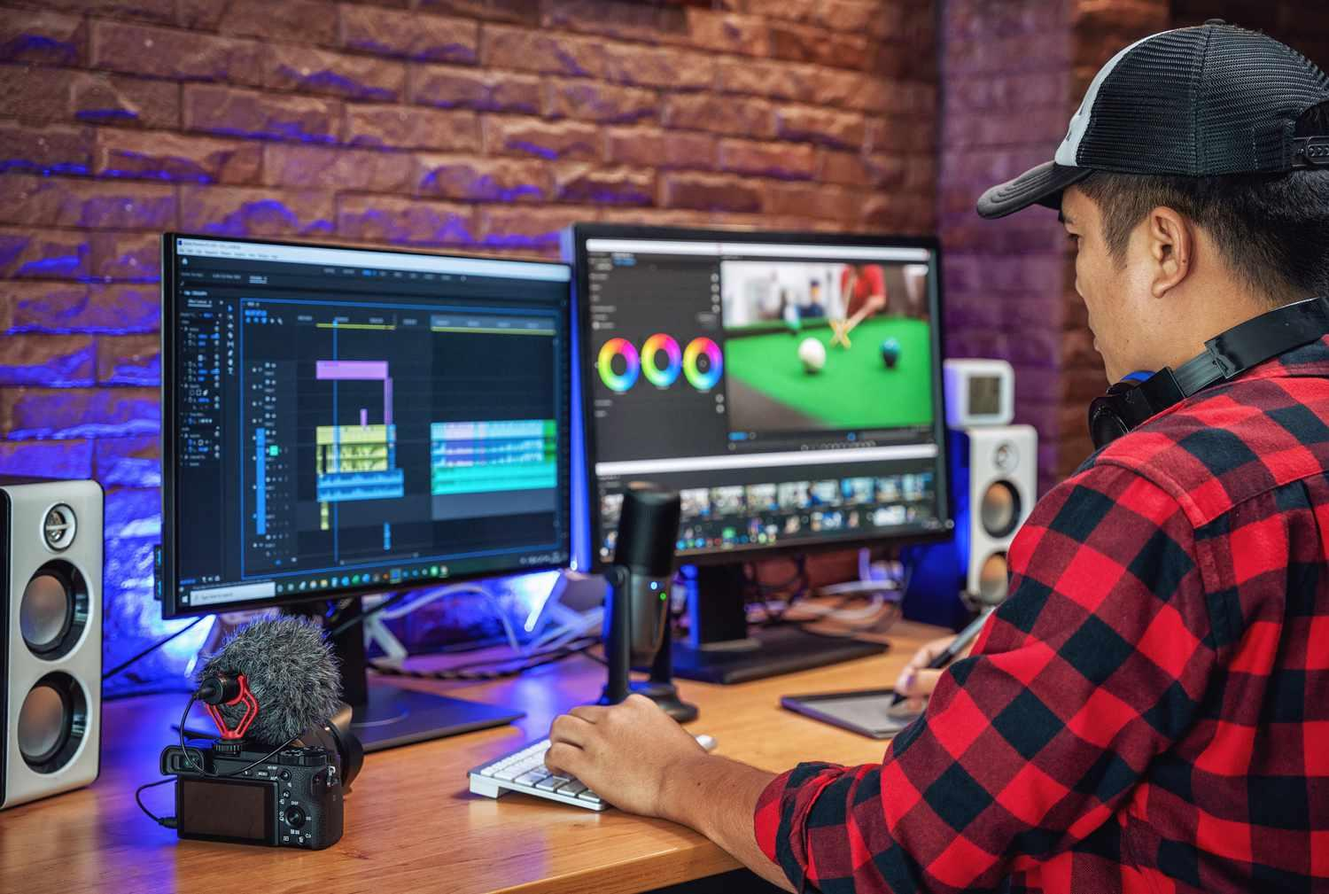monitor: (155, 226, 589, 764), (555, 214, 965, 700)
